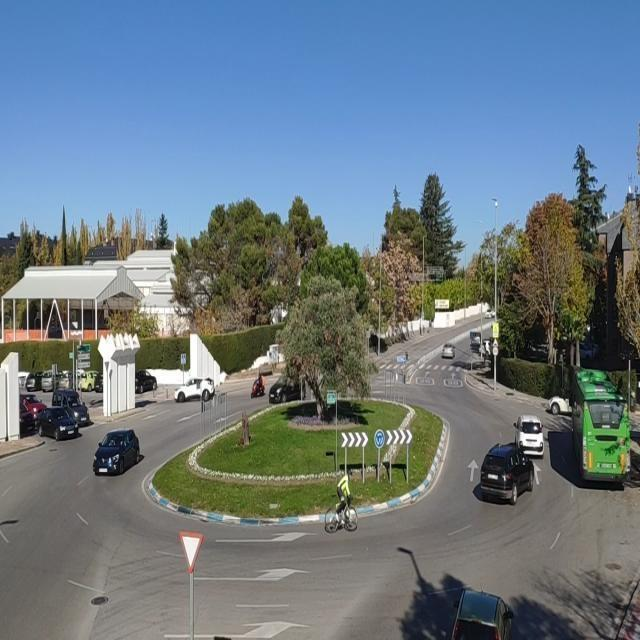Bus: (570, 366, 629, 483)
Car: (472, 440, 534, 505), (88, 428, 142, 482), (512, 415, 547, 457), (172, 376, 216, 404), (441, 342, 457, 358)
Cycle: (323, 473, 359, 534)
